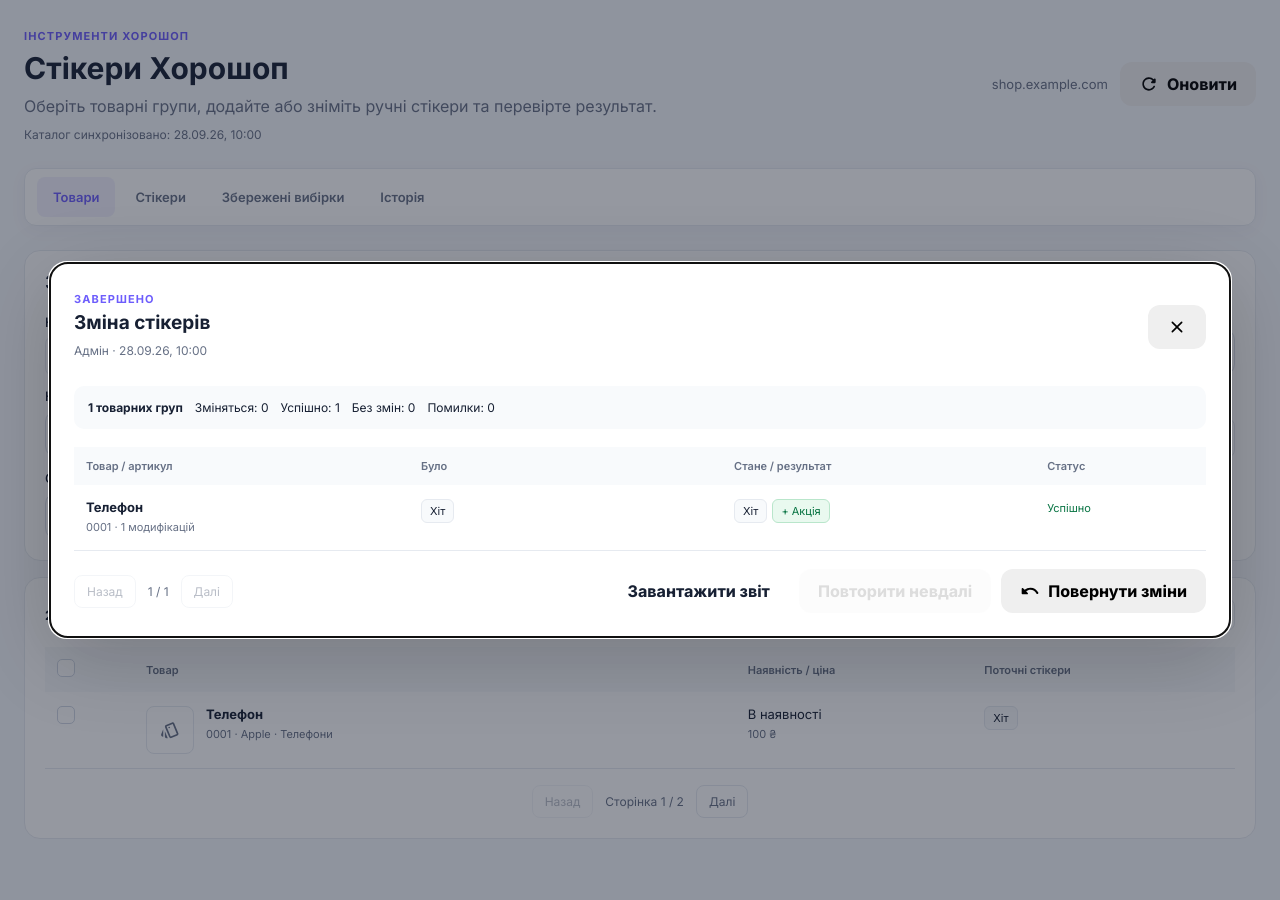
Scenario: HoroshopStickersPage › shows rollback preparation inside the operation without publishing or losing its review
Click the button "Повернути зміни". click: (1104, 591)
box: [1001,569,1206,613]
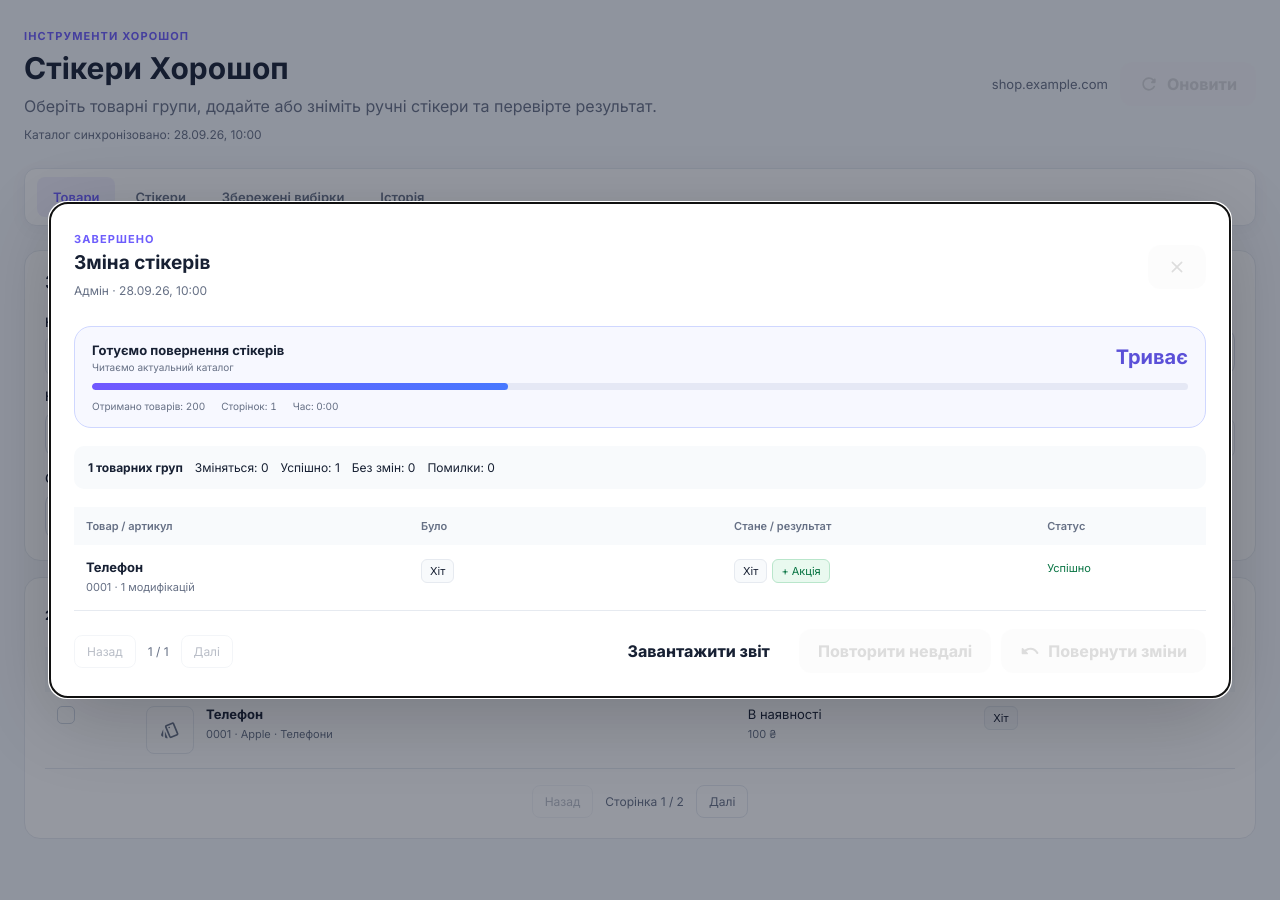
Now the heading "Готуємо повернення стікерів" is shown, box [92,342,284,358]
Now the message reads "Отримано товарів: 200", box [92,400,205,412]
Now the text "Триває" is shown, box [1116,345,1188,369]
Press Escape in the dialog, box [50,203,1230,697]
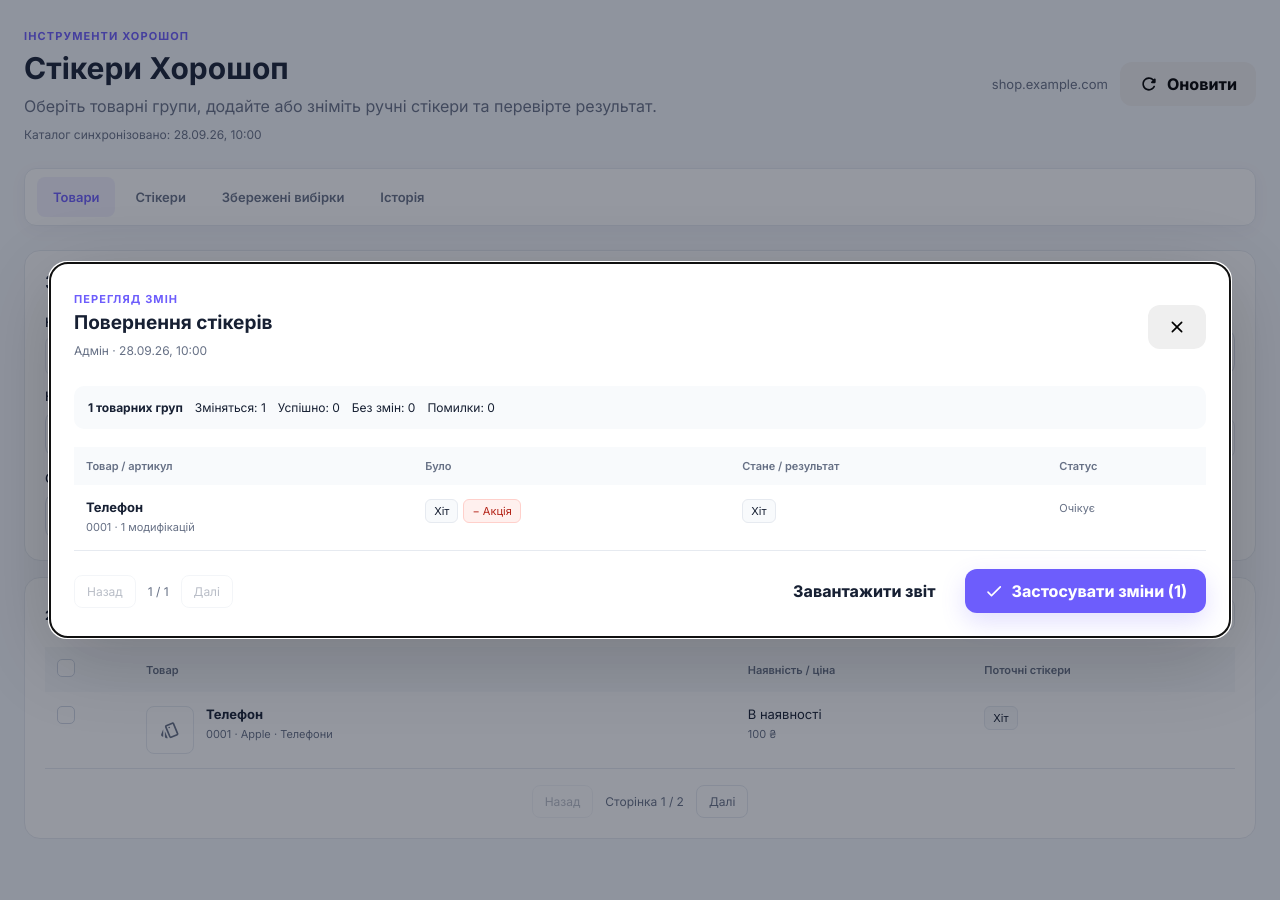
Expected: the dialog is shown, [50,263,1230,637]
Now the button "Застосувати зміни (1)" is enabled, box [964,569,1206,613]
